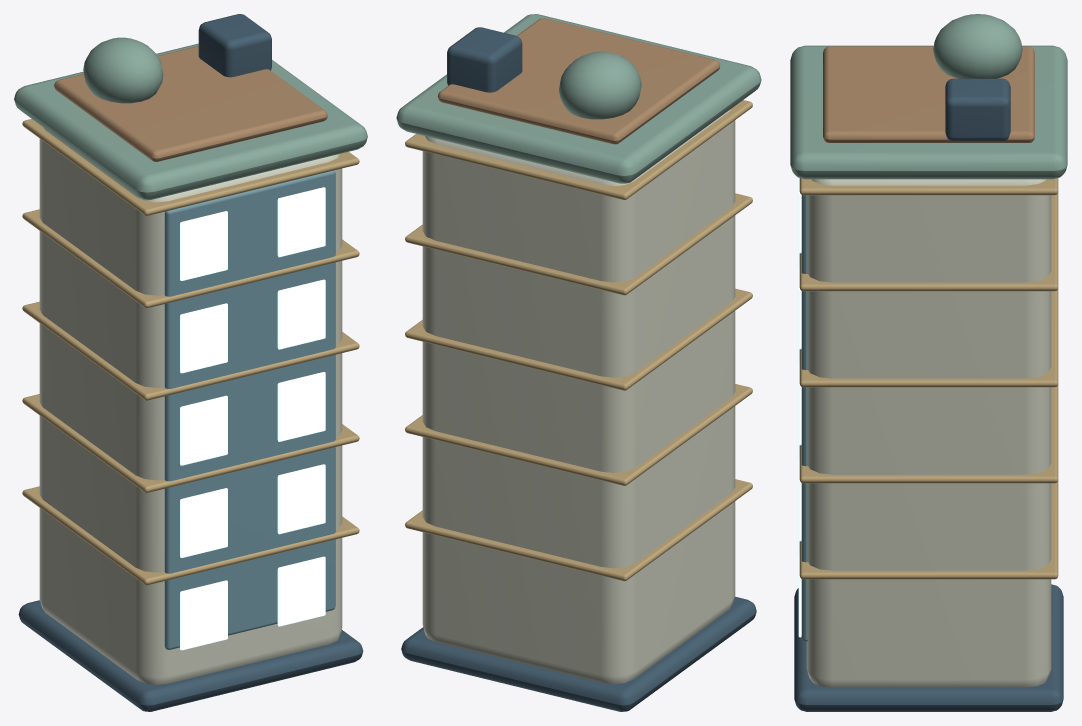
The model's file is city-house.glb.
The picture shows the model from 3 angles, left to right: view 1: azimuth 30°, elevation 25°; view 2: azimuth 150°, elevation 25°; view 3: azimuth 270°, elevation 25°; orthographic projection. The views are drawn at different scales.
Visible parts, largest first — view 1: Rounded high-rise, Blue upper facade, city-house · New window glow, city-house · Sage ceramic, city-house · Dull brass, Rooftop garden, city-house · Midnight enamel; view 2: Rounded high-rise, city-house · Sage ceramic, city-house · Dull brass, Rooftop garden, city-house · Midnight enamel; view 3: Rounded high-rise, city-house · Sage ceramic, city-house · Dull brass, Rooftop garden, city-house · Midnight enamel, Blue upper facade, city-house · New window glow.
Boxes of the visible parts, <box> form: Rounded high-rise: <box>39,128,342,684</box>; Blue upper facade: <box>164,170,335,649</box>; city-house · New window glow: <box>180,187,325,650</box>; city-house · Sage ceramic: <box>14,37,367,199</box>; city-house · Dull brass: <box>22,119,359,585</box>; Rooftop garden: <box>54,46,327,161</box>; city-house · Midnight enamel: <box>18,14,363,711</box>; Rounded high-rise: <box>422,109,735,684</box>; city-house · Sage ceramic: <box>396,14,761,183</box>; city-house · Dull brass: <box>405,100,752,581</box>; Rooftop garden: <box>438,18,719,144</box>; city-house · Midnight enamel: <box>401,27,756,711</box>; Rounded high-rise: <box>806,179,1051,687</box>; city-house · Sage ceramic: <box>790,14,1067,179</box>; city-house · Dull brass: <box>799,178,1058,579</box>; Rooftop garden: <box>823,46,1034,142</box>; city-house · Midnight enamel: <box>794,78,1063,711</box>; Blue upper facade: <box>801,195,807,641</box>; city-house · New window glow: <box>798,178,801,637</box>.
Bounding box in the file's own units: 3.4 × 8.37 × 3.4.
